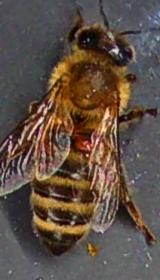varroa_mite: (72, 126, 106, 153)
